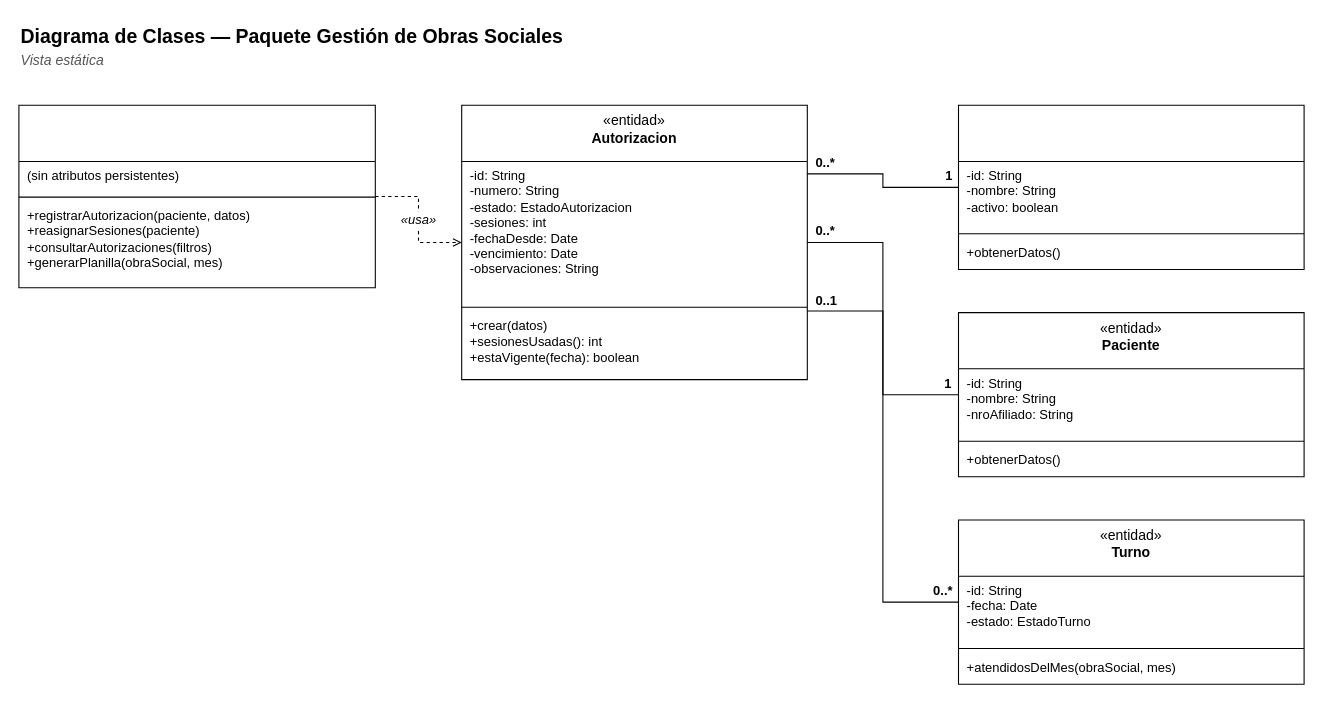
This 1323x705 diagram has some shape labels left out. Each missing label, with the box of its shape:
«control» GestorObrasSociales: (18, 104, 375, 288)
«entidad» ObraSocial: (957, 104, 1304, 269)
